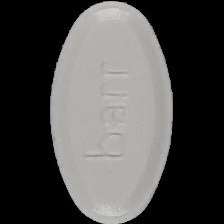0555-0835: (0, 0, 224, 224)
